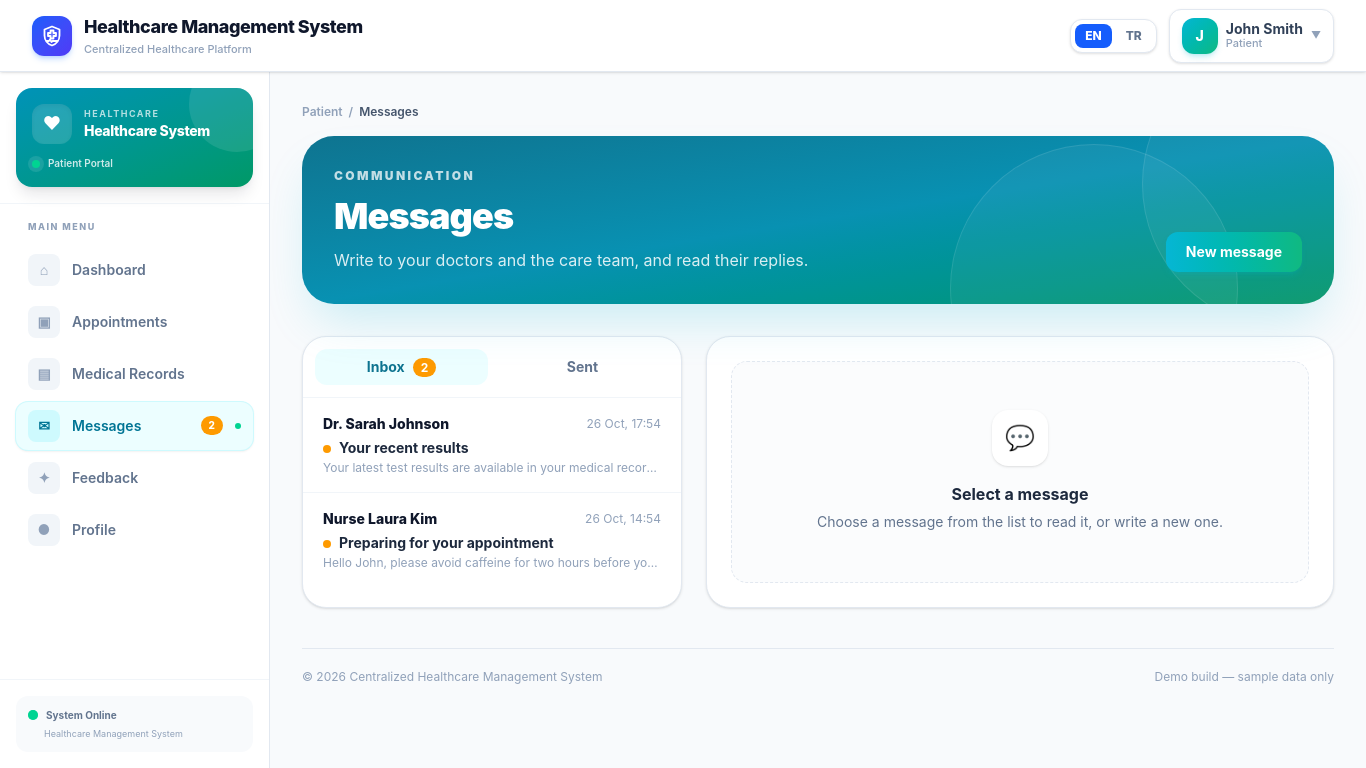
Test: messages › validates and sends a new message to a doctor
Click the button "New message". click: (1234, 252)
box: x1=1166 y1=232 x2=1302 y2=272
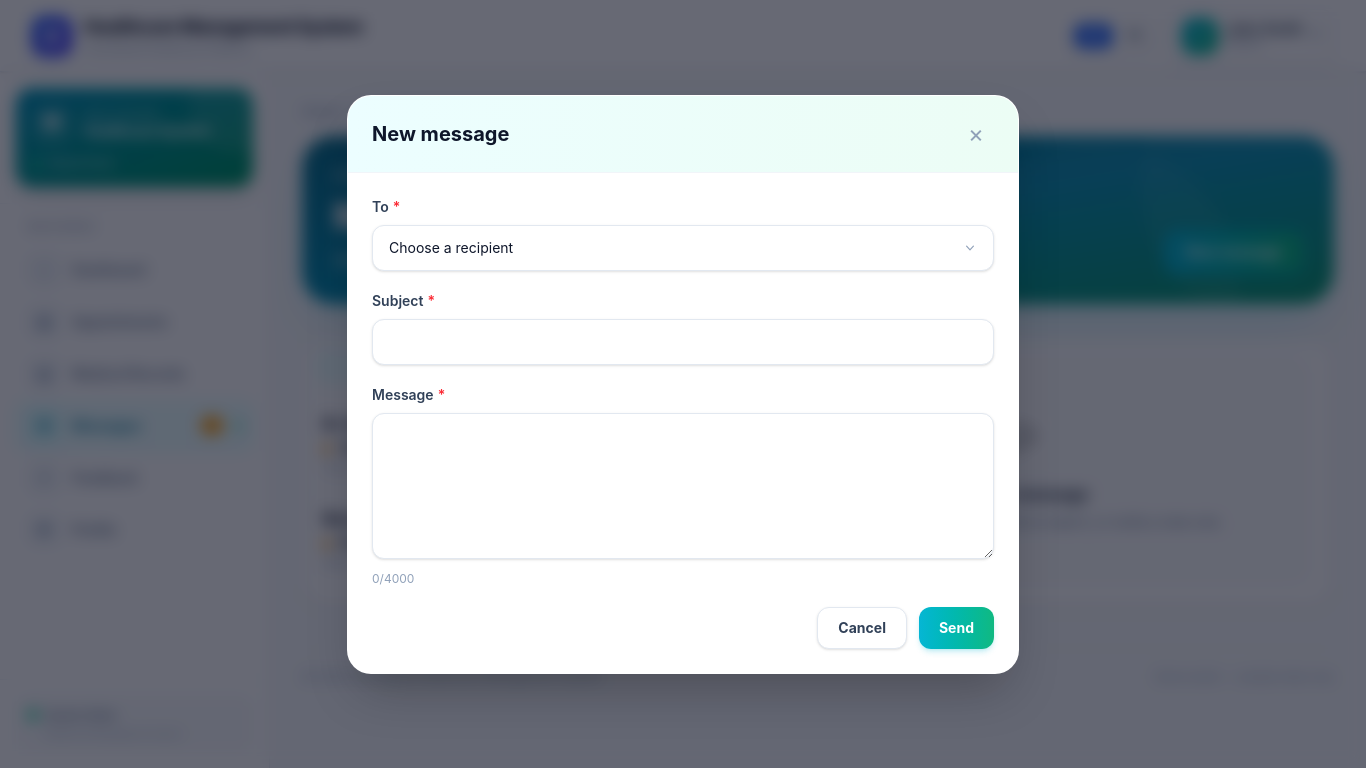
Click the button "Send". click: (956, 628)
box: x1=919 y1=606 x2=994 y2=648
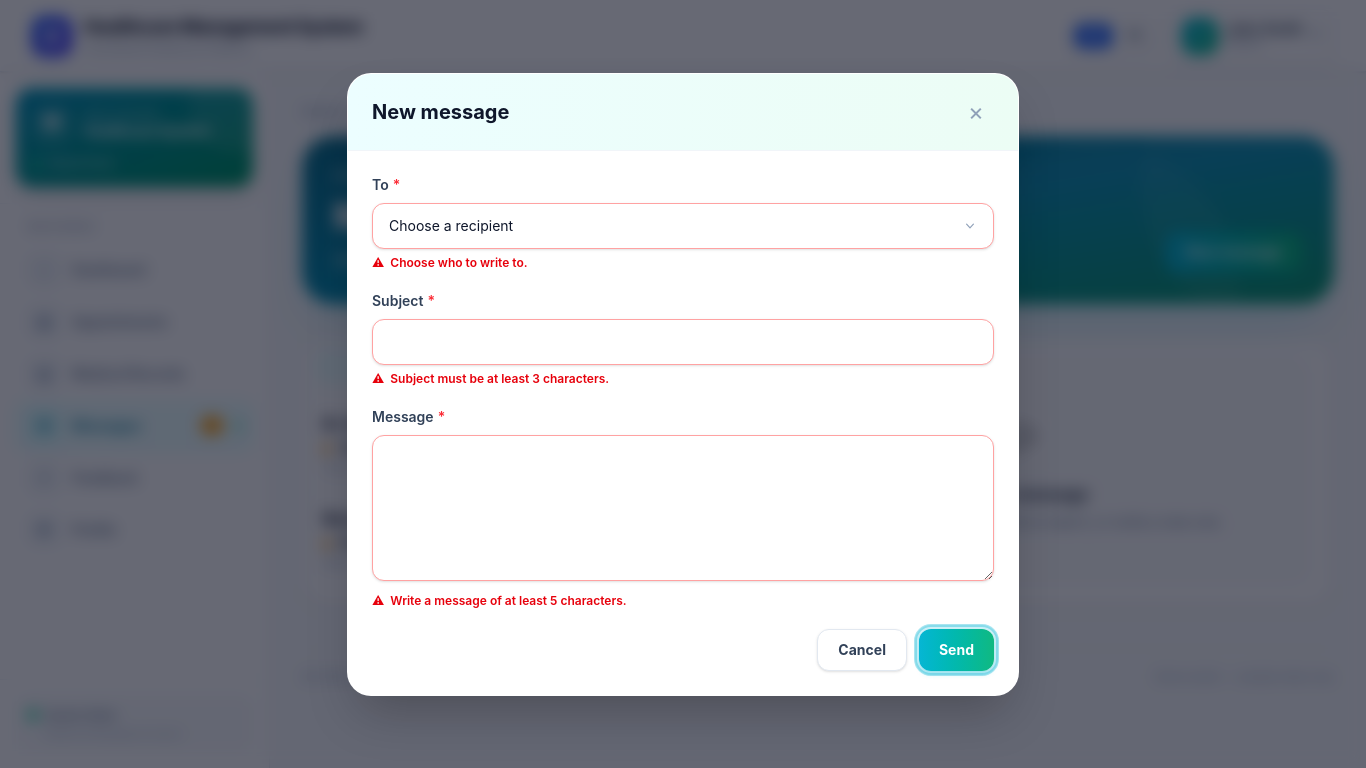
Expected: the text "Choose who to write to." is shown, x1=390 y1=254 x2=528 y2=270
Expected: the text "⚠ Subject must be at least 3 characters." is shown, x1=372 y1=370 x2=609 y2=386
Select "Dr. Sarah Johnson (Doctor · Cardiology)" in the dropdown labelled "To*". click: (683, 226)
box: x1=372 y1=202 x2=994 y2=248
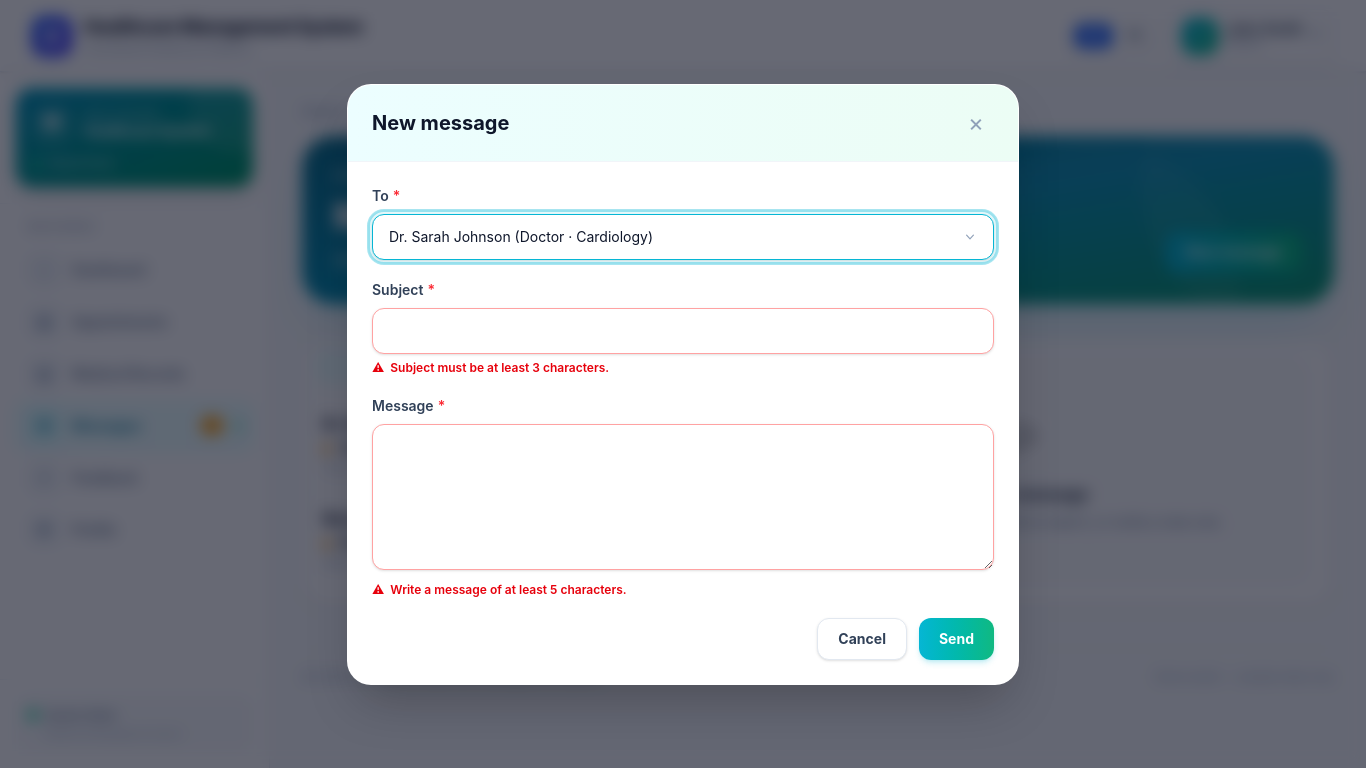
Type "Follow-up question" into the field labelled "Subject*". click: (683, 330)
box: x1=372 y1=308 x2=994 y2=354
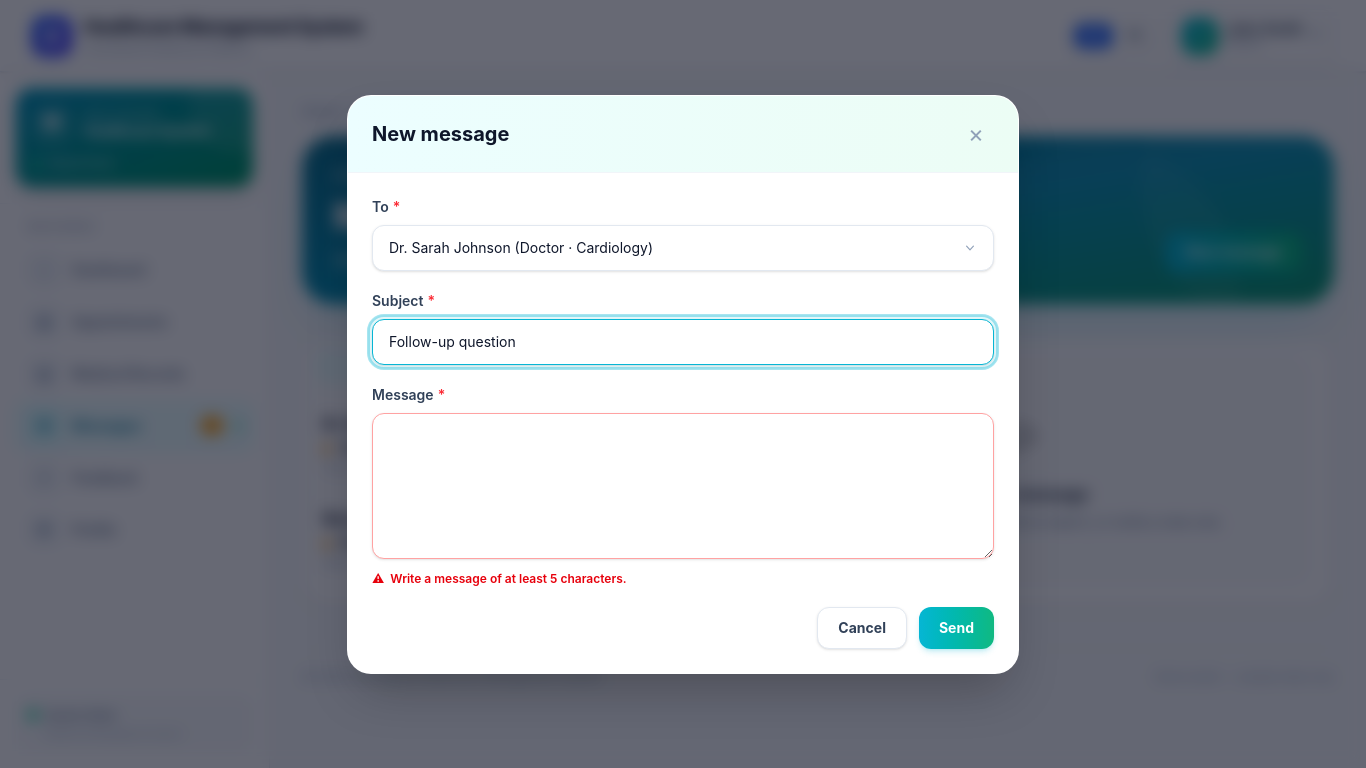
Type "Can I move my appointment?" into the text box labelled "Message*". click: (683, 486)
box: x1=372 y1=412 x2=994 y2=558
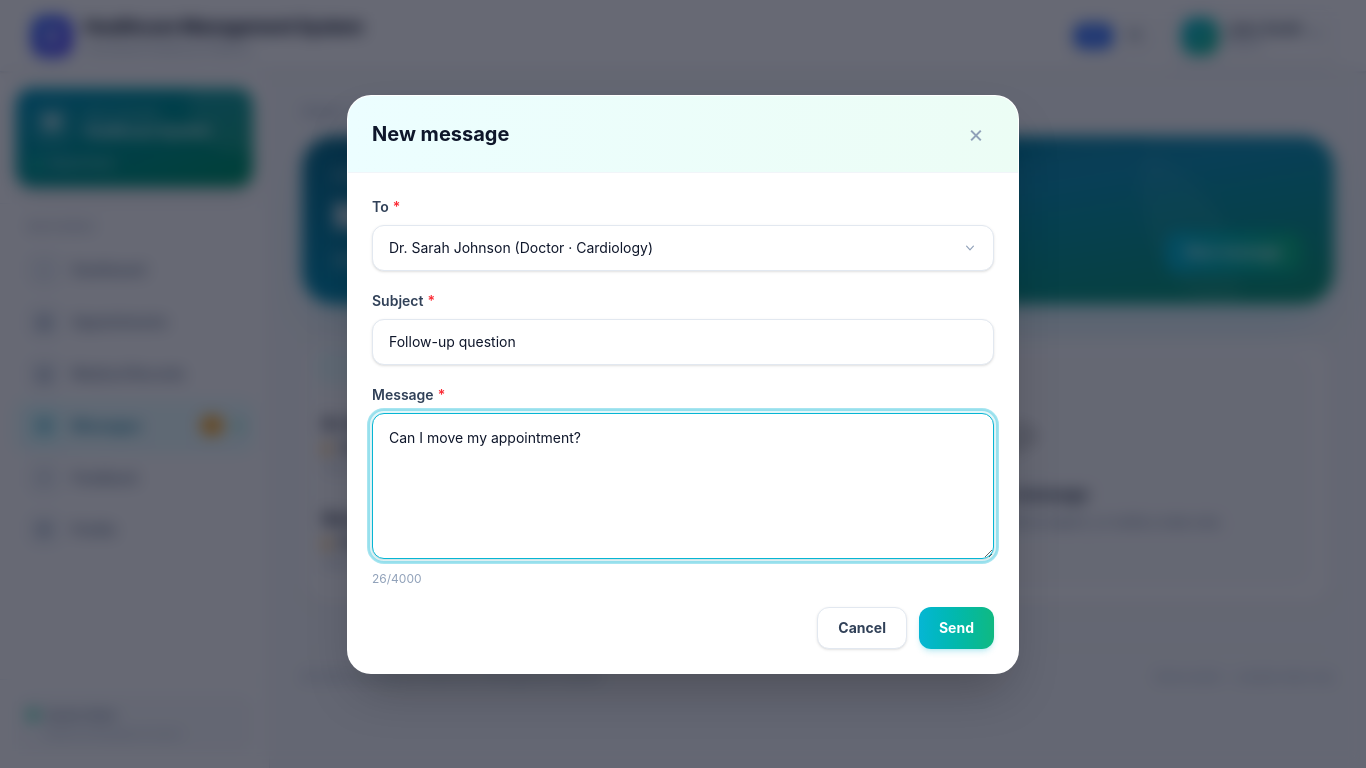
Click the button "Send". click: (956, 628)
box: x1=919 y1=606 x2=994 y2=648
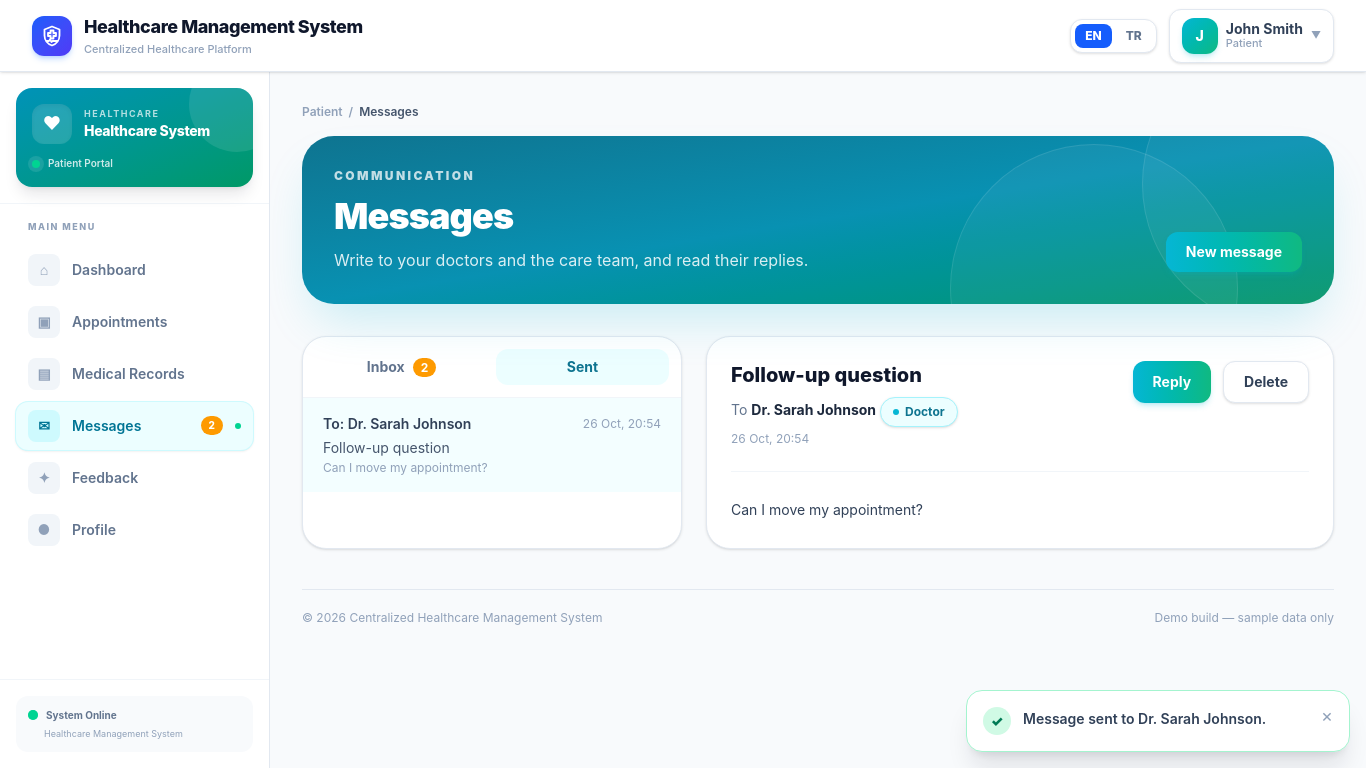
Expected: the dialog is gone
Expected: the text "Follow-up question" is shown, x1=323 y1=439 x2=450 y2=456
